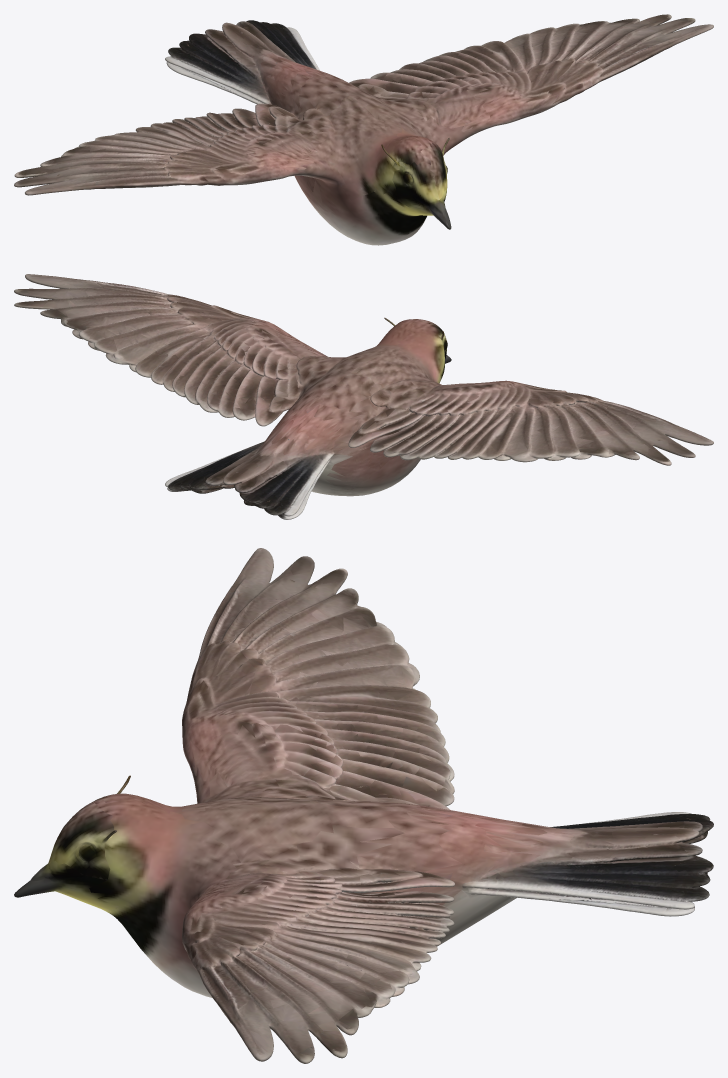
File: Eremophila_alpestris.glb
3 renders of one model, top to bottom at view 1: azimuth 30°, elevation 25°; view 2: azimuth 150°, elevation 25°; view 3: azimuth 270°, elevation 25°, orthographic. The views are drawn at different scales.
Visible parts, largest first — view 1: orient; view 2: orient; view 3: orient.
Boxes of the visible parts, box(x1,y1,x2,y2) form: orient: box(14, 14, 713, 245); orient: box(14, 274, 713, 519); orient: box(14, 548, 713, 1063).
Bounding box in the file's own units: 0.5 × 0.0914 × 0.2894.
Materials: 1 (1 with a texture image).
